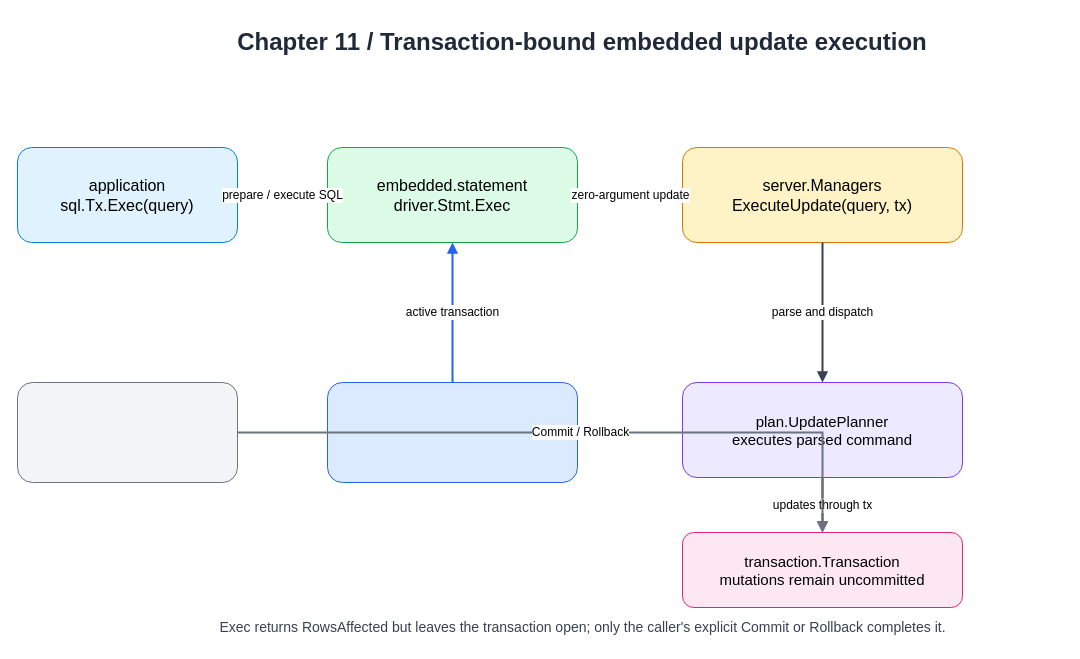
Image size: 1080x659. Some labels were removed from this diagram. The centre of each missing label's shape, as x and y in pixels:
embedded.Connection holds active transaction: the point at 452,432
transactionAdapter driver.Tx: the point at 127,432
